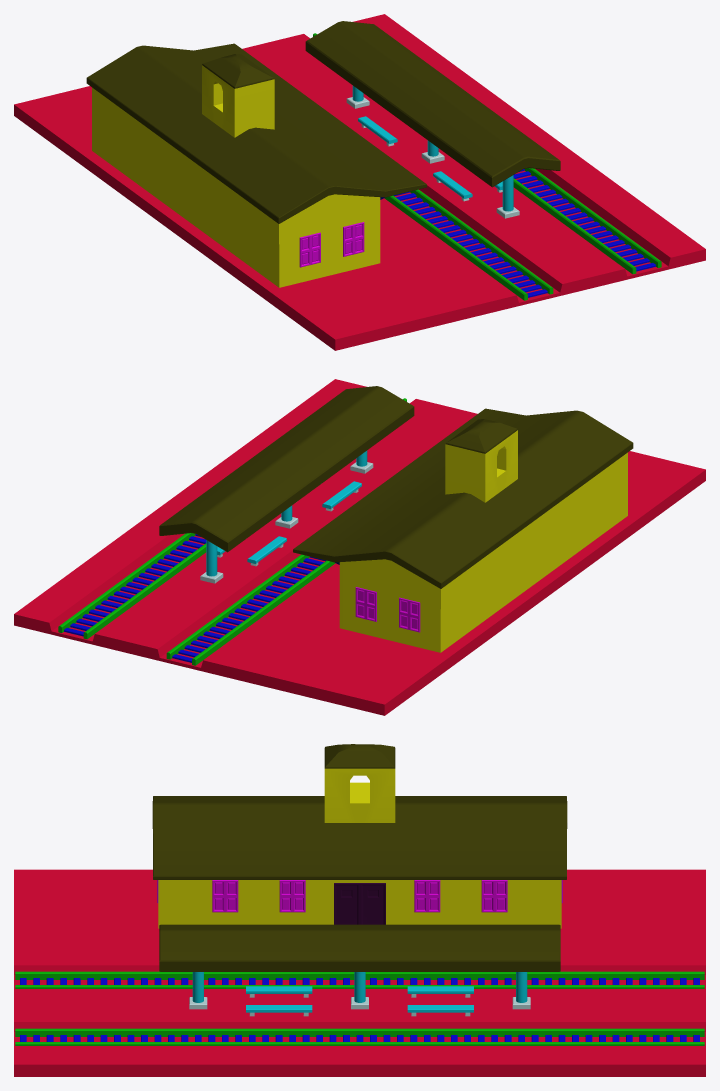
The model's file is trainhub_low.fbx.
3 renders of one model, top to bottom at view 1: azimuth 30°, elevation 25°; view 2: azimuth 150°, elevation 25°; view 3: azimuth 270°, elevation 25°, orthographic. The views are drawn at different scales.
Parts seen in each view (by area): view 1: stationfloor_low, stationhouse_low, stationmiddle_low; view 2: stationfloor_low, stationhouse_low, stationmiddle_low; view 3: stationfloor_low, stationhouse_low, stationmiddle_low.
Boxes of the visible parts, left/top/right/bottom form: stationfloor_low: left=14, top=14, right=705, bottom=350; stationhouse_low: left=86, top=43, right=426, bottom=287; stationmiddle_low: left=305, top=21, right=560, bottom=218; stationfloor_low: left=14, top=379, right=705, bottom=715; stationhouse_low: left=293, top=408, right=633, bottom=652; stationmiddle_low: left=159, top=386, right=414, bottom=583; stationfloor_low: left=14, top=869, right=705, bottom=1076; stationhouse_low: left=152, top=744, right=567, bottom=928; stationmiddle_low: left=159, top=924, right=560, bottom=1016.
Bounding box in the file's own units: 34.24 × 13.9 × 51.37.
